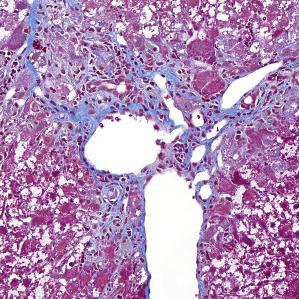fibrosis: (25, 46, 191, 114)
